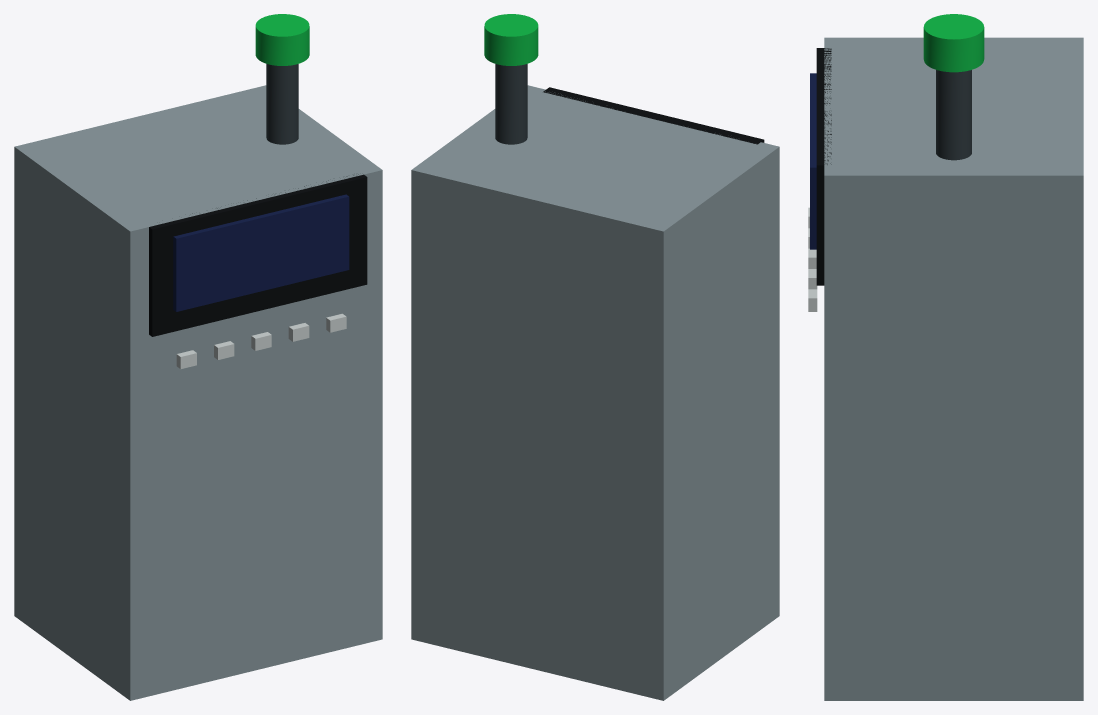
File: operator_console.dae
The picture shows the model from 3 angles, left to right: view 1: azimuth 30°, elevation 25°; view 2: azimuth 150°, elevation 25°; view 3: azimuth 270°, elevation 25°; orthographic projection. The views are drawn at different scales.
Parts seen in each view (by area): view 1: operator_console; view 2: operator_console; view 3: operator_console.
Boxes of the visible parts, box(x1,y1,x2,y2) form: operator_console: box(14, 14, 382, 700); operator_console: box(411, 14, 779, 700); operator_console: box(808, 14, 1083, 700).
Size of the model in its own units: 0.54 by 0.4565 by 1.19.
